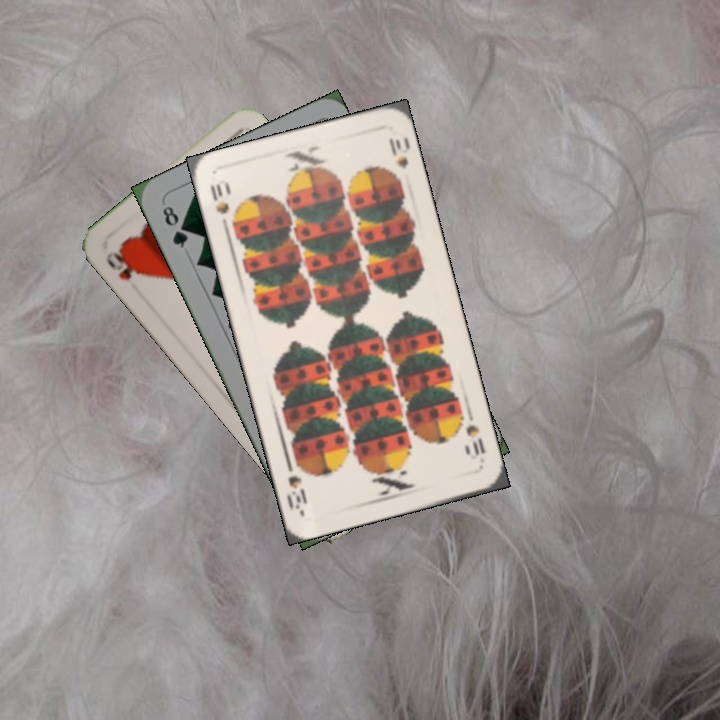G8: (158, 201, 191, 251)
HO: (102, 245, 143, 283)
S10: (206, 175, 232, 234), (462, 421, 488, 458)
